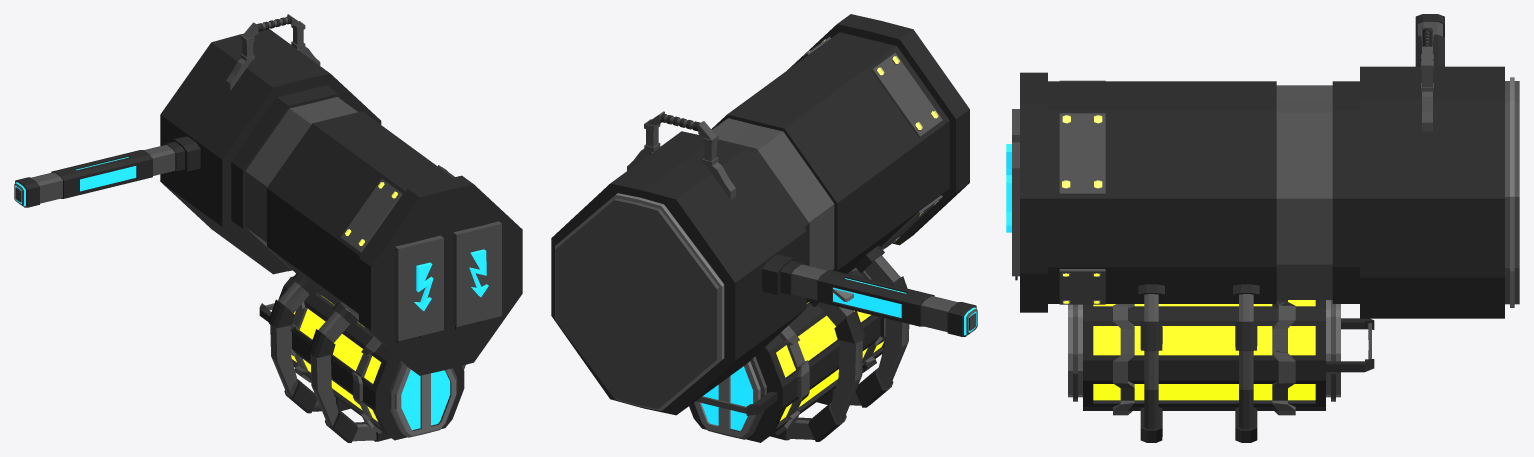
File: SG_78 Remake.fbx
3 renders of one model, left to right at view 1: azimuth 30°, elevation 25°; view 2: azimuth 150°, elevation 25°; view 3: azimuth 270°, elevation 25°, orthographic. The views are drawn at different scales.
Visible parts, largest first — view 1: Cube.003; view 2: Cube.003; view 3: Cube.003.
Boxes of the visible parts, x1,y1,x2,y2 form: Cube.003: [14, 14, 522, 442]; Cube.003: [551, 14, 977, 442]; Cube.003: [1006, 14, 1519, 442].
Bounding box in the file's own units: 0.7714 × 0.7303 × 0.8769.
Materials: 1 (1 with a texture image).
